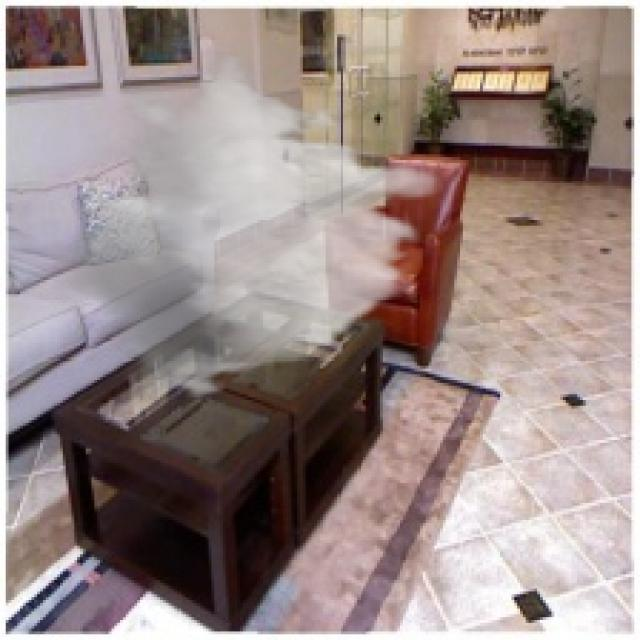Smoke: (51, 51, 448, 400)
